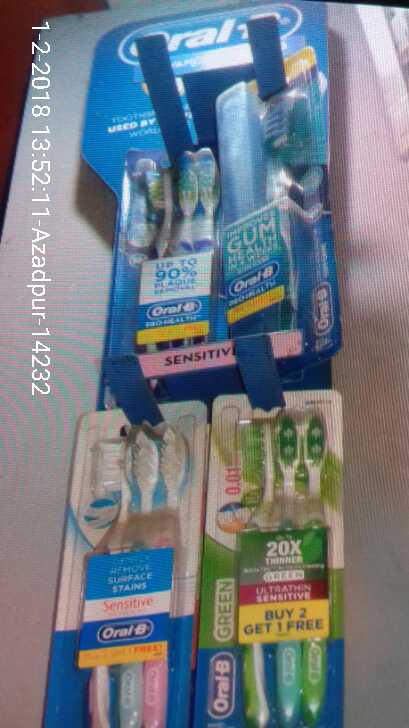oralb: (66, 429, 205, 728), (232, 400, 340, 728), (251, 102, 333, 337), (127, 158, 218, 348)
